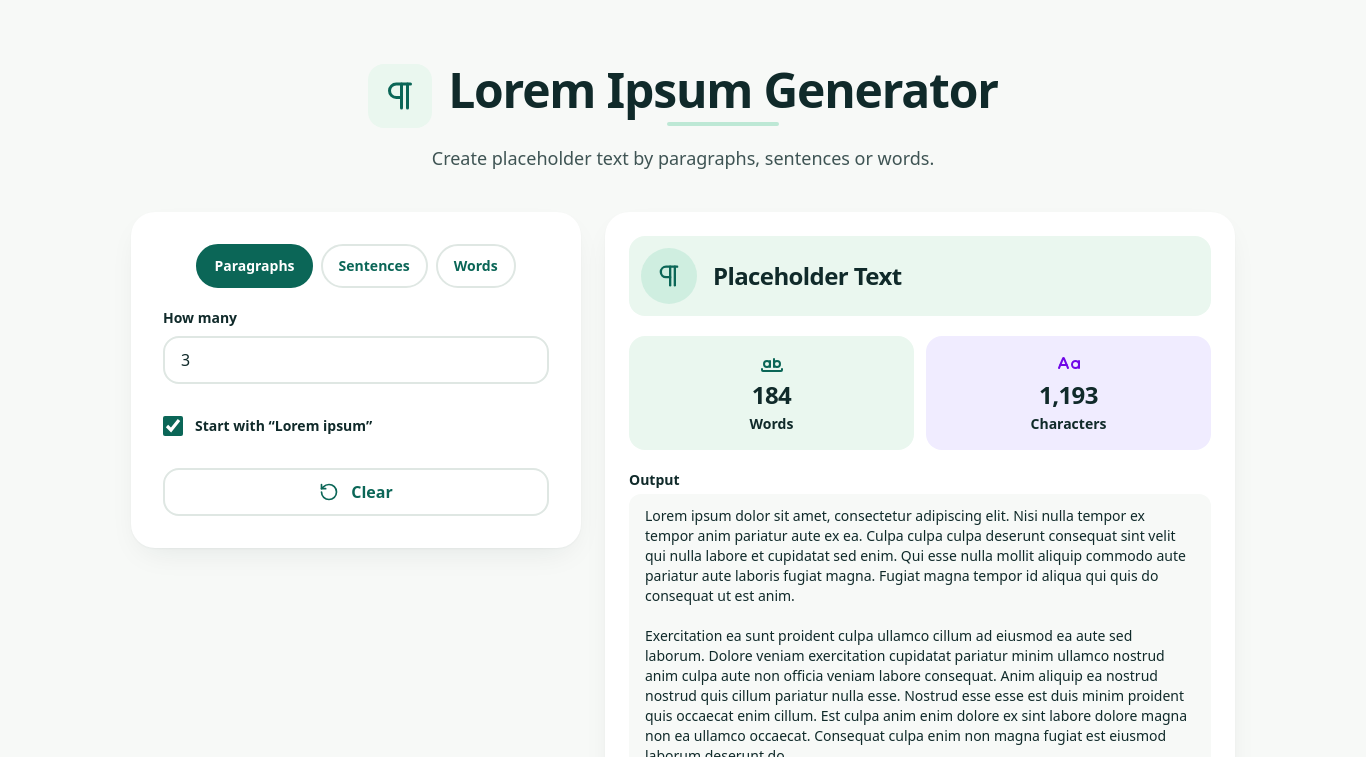
Lorem Ipsum Generator page › shows text straight away and follows the settings
Click the button "Words".
click(476, 266)  # box x1=436 y1=244 x2=516 y2=288
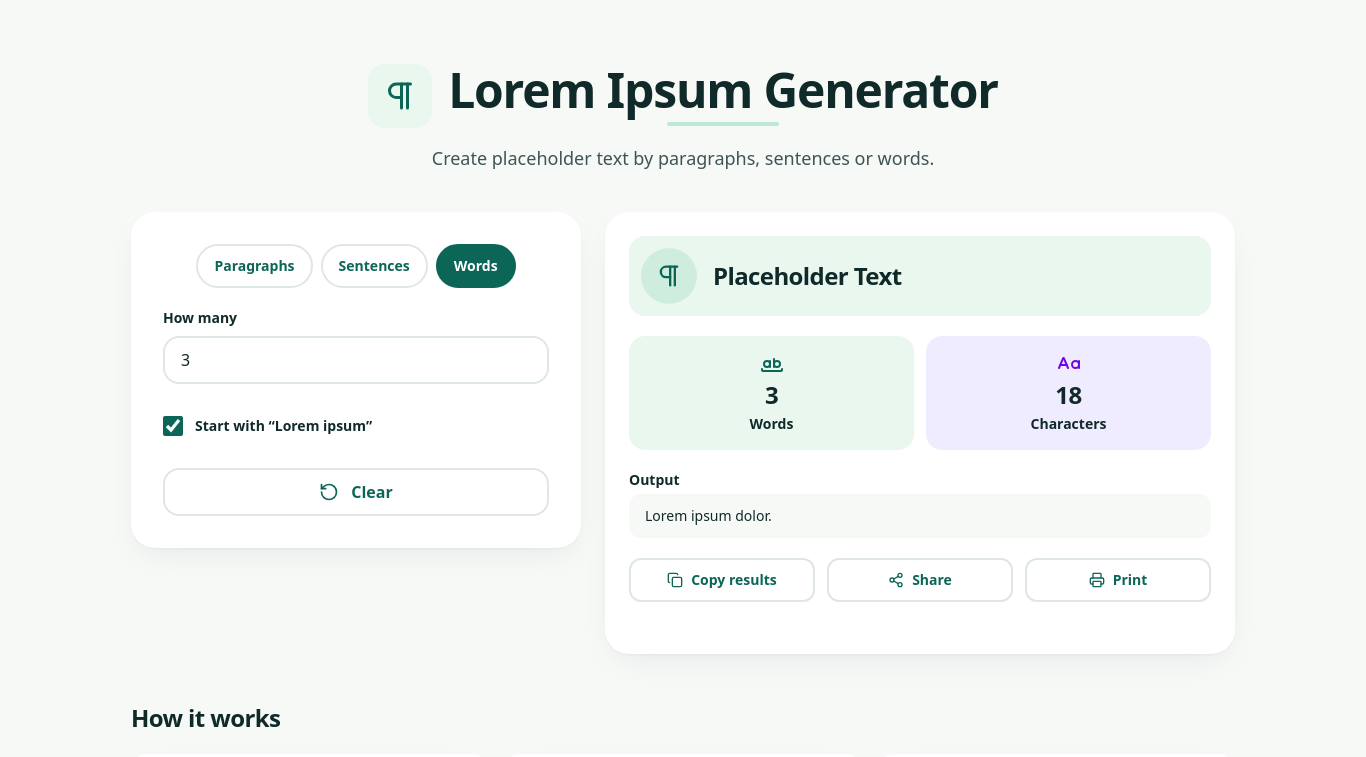
Replace the text in the field labelled "How many" with "12" at (356, 360), box x1=163 y1=336 x2=549 y2=384
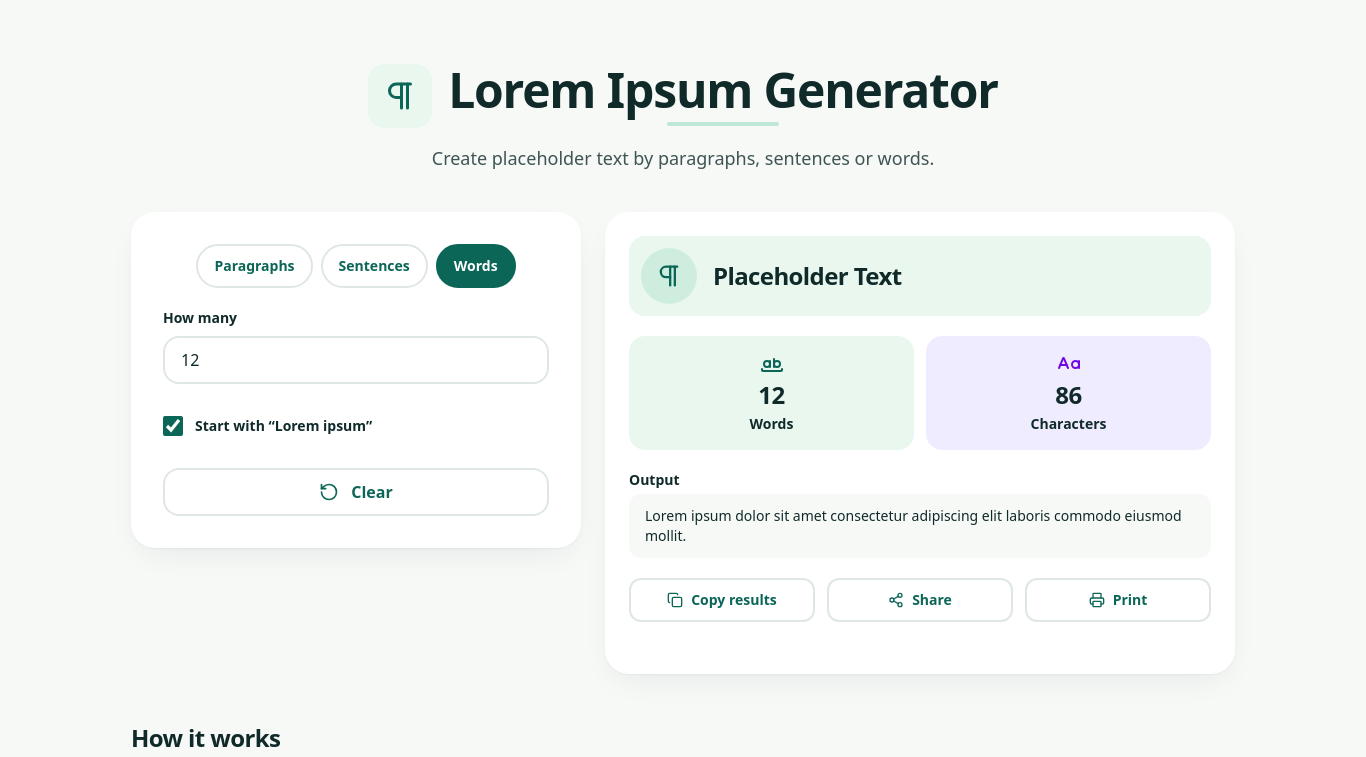
Replace the text in the field labelled "How many" with "0" at (356, 360), box x1=163 y1=336 x2=549 y2=384
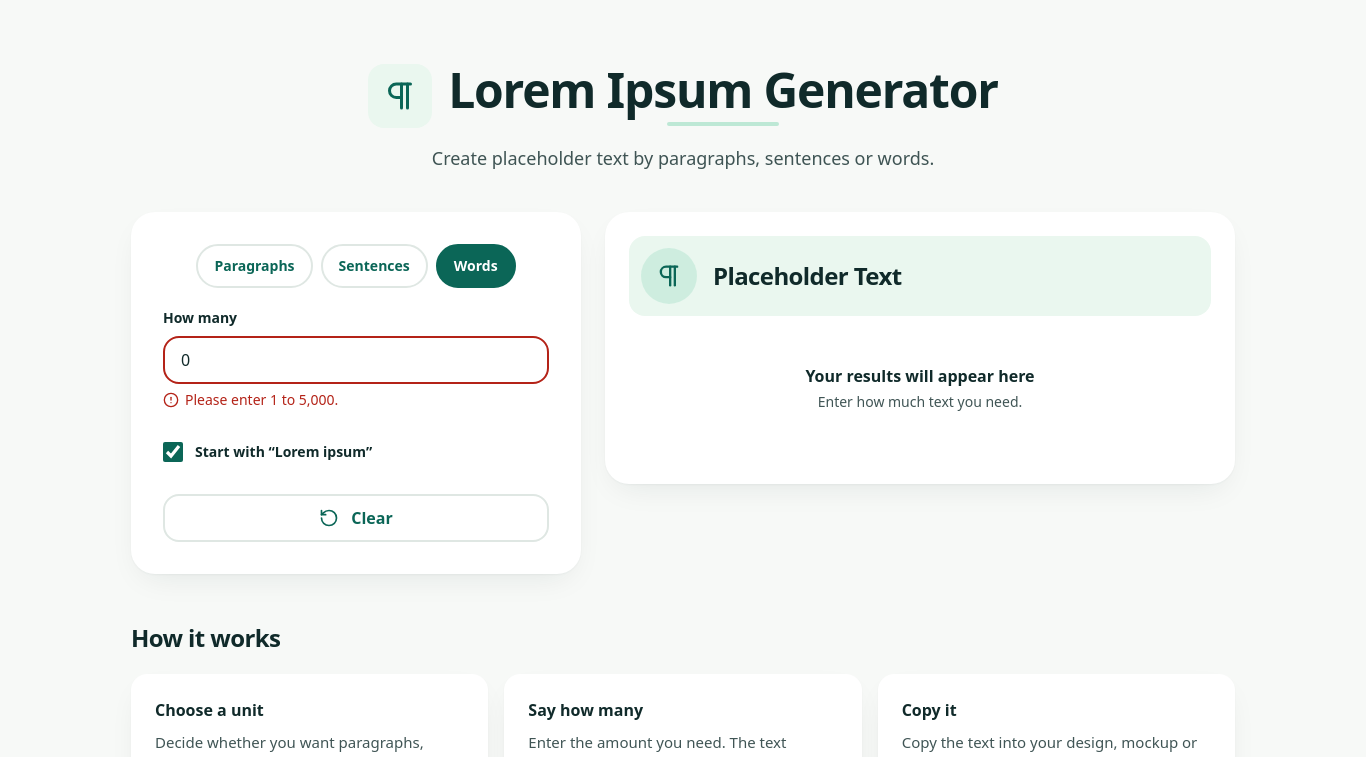
Expected: the text "Please enter 1 to 5,000." is shown, x1=163 y1=390 x2=338 y2=409
